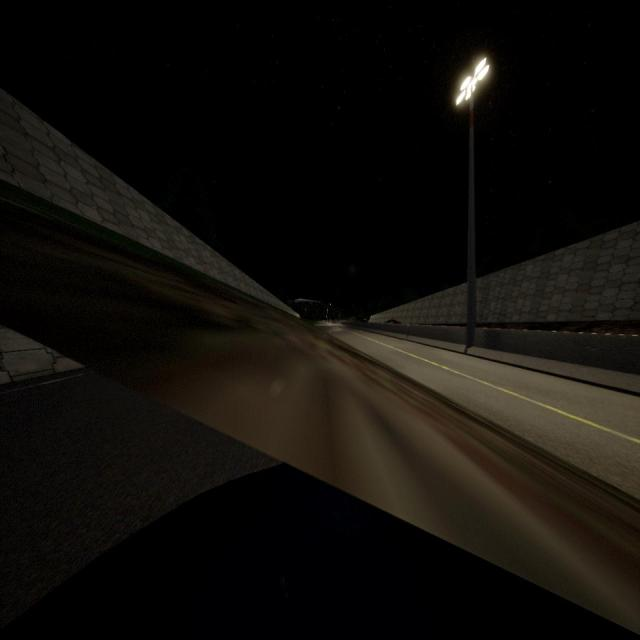Vehicle: (385, 319, 402, 324)
